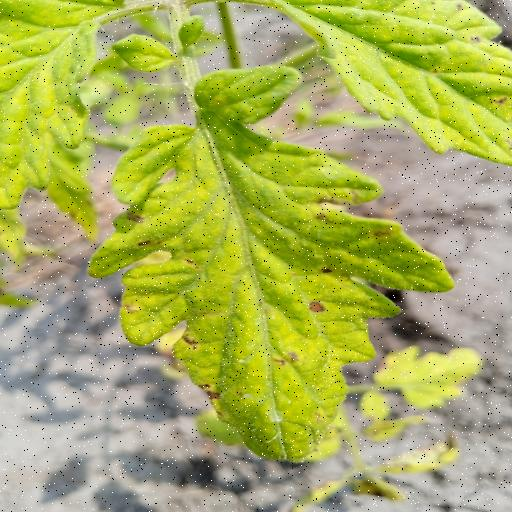Tomato_Brown_Spots: (77, 61, 457, 469), (262, 0, 512, 166)
